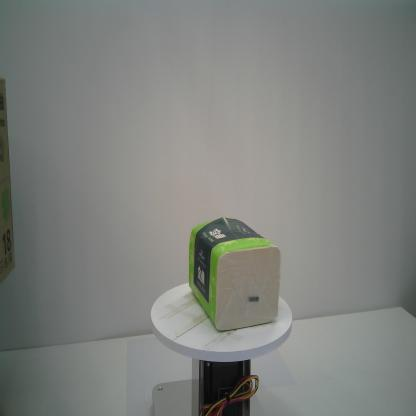Tissue: (186, 214, 283, 332)
